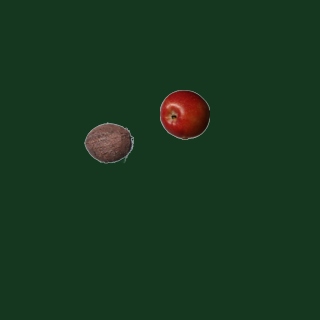Apple Braeburn: (159, 89, 209, 139)
Cocos: (83, 117, 133, 167)
